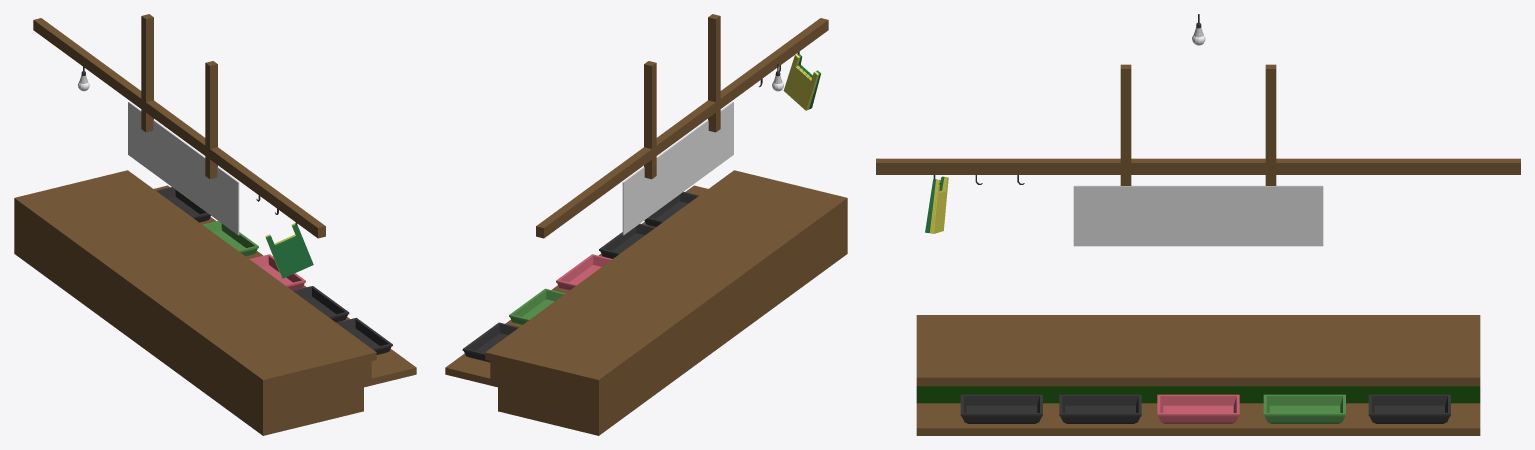
File: gulayan1.fbx
3 views of the same model, side by side, from view 1: azimuth 30°, elevation 25°; view 2: azimuth 150°, elevation 25°; view 3: azimuth 270°, elevation 25° (orthographic). The views are drawn at different scales.
Parts seen in each view (by area): view 1: gulayan1, wood, StallName, Plastic.003, Container.002, Container.001, Container.003, Container.004, Container; view 2: gulayan1, wood, StallName, Plastic.003, Container.004, Container.003, Container, Container.001, Container.002; view 3: gulayan1, StallName, wood, Container, Container.001, Container.004, Container.003, Container.002, Plastic.003.
Boxes of the visible parts, <box> form: gulayan1: <box>14,170,416,435</box>; wood: <box>33,14,325,238</box>; StallName: <box>128,102,239,235</box>; Plastic.003: <box>265,223,313,278</box>; Container.002: <box>336,317,392,354</box>; Container.001: <box>293,286,349,322</box>; Container.003: <box>202,221,258,256</box>; Container.004: <box>156,187,210,222</box>; Container: <box>249,254,305,290</box>; gulayan1: <box>445,170,847,435</box>; wood: <box>536,14,828,238</box>; StallName: <box>622,102,733,235</box>; Plastic.003: <box>783,54,820,110</box>; Container.004: <box>462,322,518,362</box>; Container.003: <box>509,288,565,324</box>; Container: <box>556,254,612,290</box>; Container.001: <box>599,223,655,258</box>; Container.002: <box>644,191,698,227</box>; gulayan1: <box>916,315,1480,435</box>; StallName: <box>1073,185,1323,246</box>; wood: <box>876,64,1520,185</box>; Container: <box>1157,394,1239,423</box>; Container.001: <box>1059,394,1141,423</box>; Container.004: <box>1368,394,1450,423</box>; Container.003: <box>1263,394,1345,423</box>; Container.002: <box>960,394,1042,423</box>; Plastic.003: <box>925,176,948,233</box>.
Bounding box in the file's own units: 4.51 × 5.95 × 10.41.
